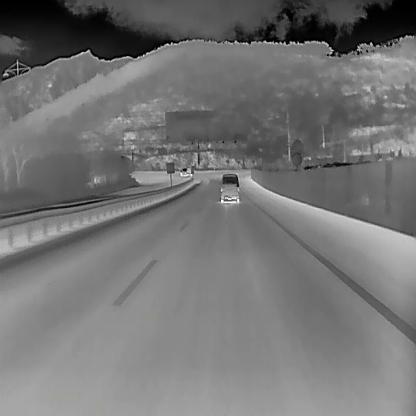car: (220, 172, 239, 203), (179, 167, 192, 177)
